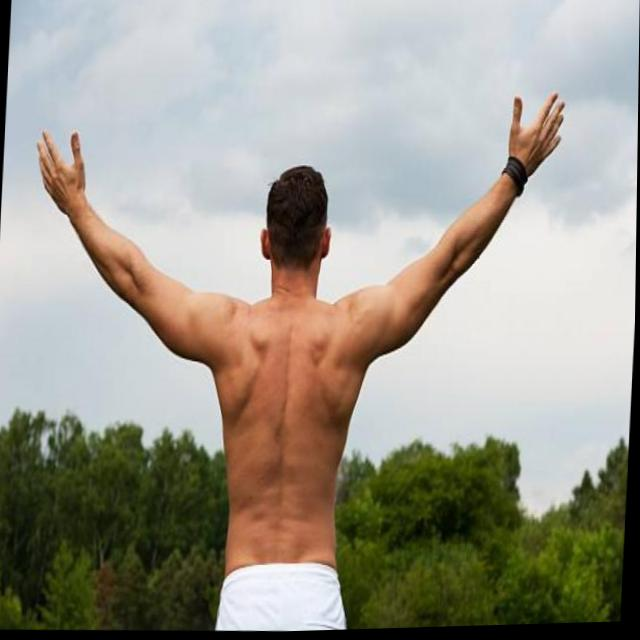no helmet: (248, 141, 355, 348)
